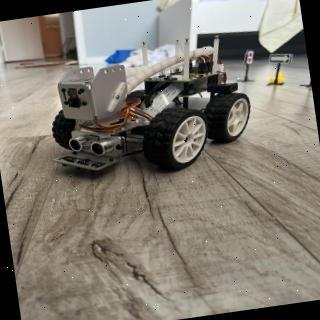duck_regular: (269, 70, 287, 88)
sign_noentry: (244, 50, 257, 68)
sign_oneway_right: (267, 50, 294, 69)
vehicle: (38, 27, 260, 188)
